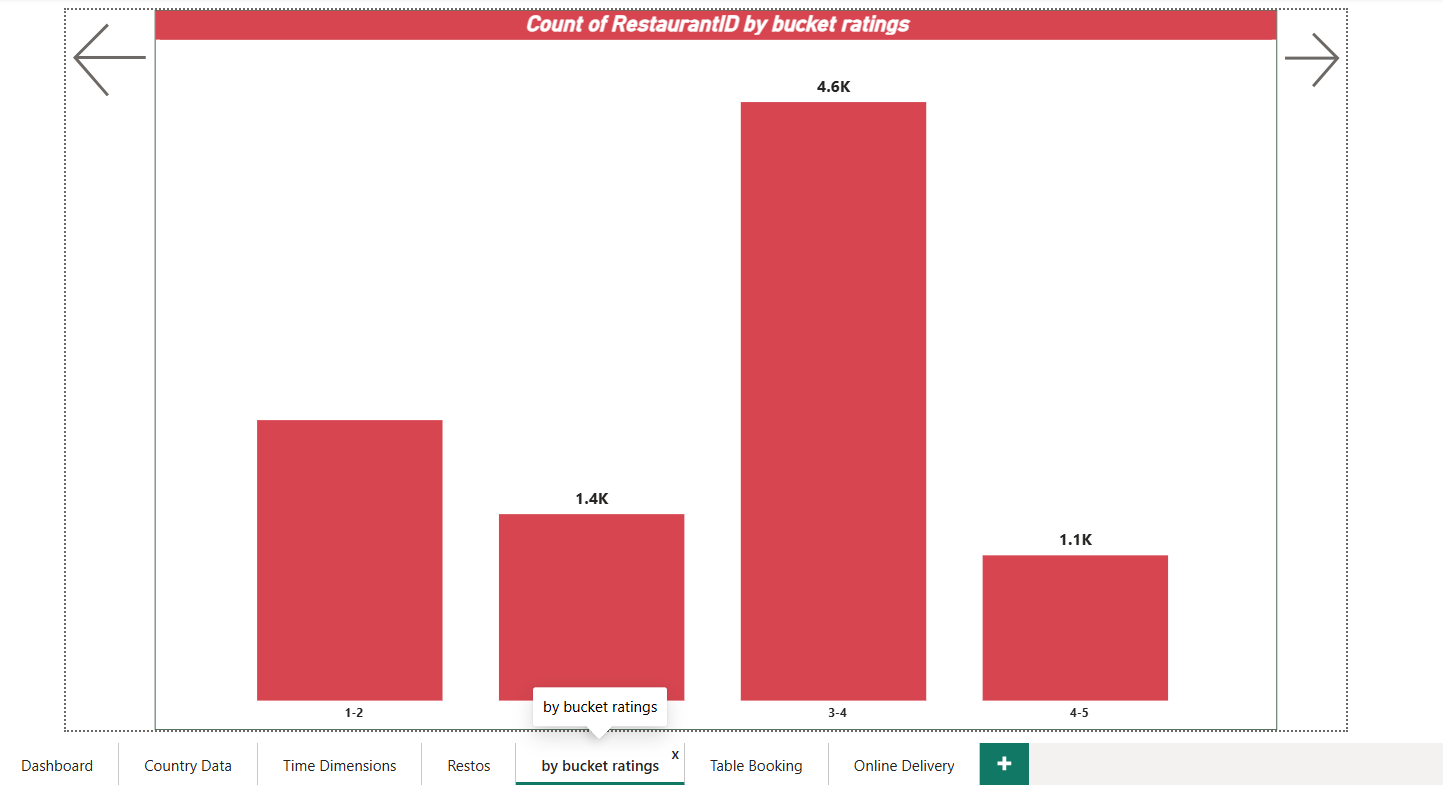

The page's visual inventory and layout, read from the dashboard file:
{"tool":"powerbi","page":{"name":"by bucket ratings","canvas":[1280,720],"ordinal":4},"visuals":[{"type":"clusteredColumnChart","fields":{"Category":["cuisines copy.bucket ratings"],"Y":["CountNonNull(cuisines copy.RestaurantID)"]},"box":[88.8,0,1122.5,720],"z":0},{"type":"textbox","box":[100,100,300,300],"z":1000},{"type":"textbox","box":[100,100,300,300],"z":2000},{"type":"actionButton","box":[1211.3,0,68,100.2],"z":3000},{"type":"actionButton","box":[0,0,88.8,100.2],"z":4000}]}

Visuals, with their boxes on the page's 1280x720 design canvas (x1, y1, x2, y2). These are canvas units, not pixel positions in the 1443x785 screenshot, which may show the page scaled, cropped or inside an application window:
clusteredColumnChart - cuisines copy.bucket ratings x CountNonNull(cuisines copy.RestaurantID): pyautogui.locateOnScreen(89, 0, 1211, 720)
textbox: pyautogui.locateOnScreen(100, 100, 400, 400)
textbox: pyautogui.locateOnScreen(100, 100, 400, 400)
actionButton: pyautogui.locateOnScreen(1211, 0, 1279, 100)
actionButton: pyautogui.locateOnScreen(0, 0, 89, 100)
